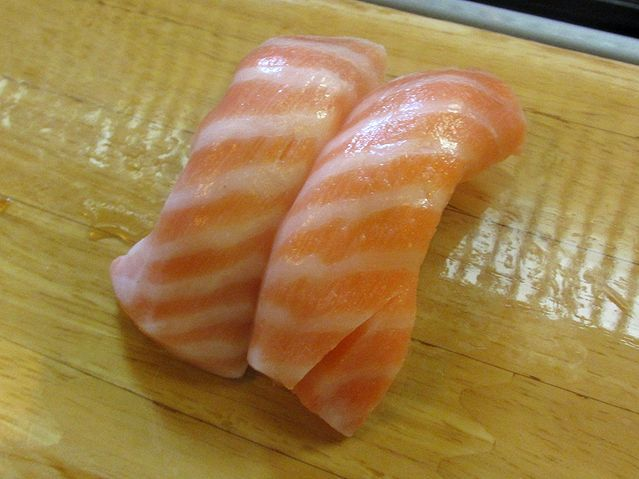salmon: (281, 71, 493, 416), (139, 33, 357, 362)
